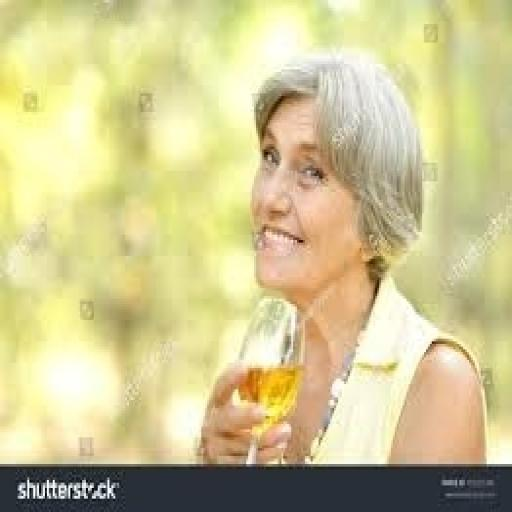drinking: (232, 293, 307, 459)
